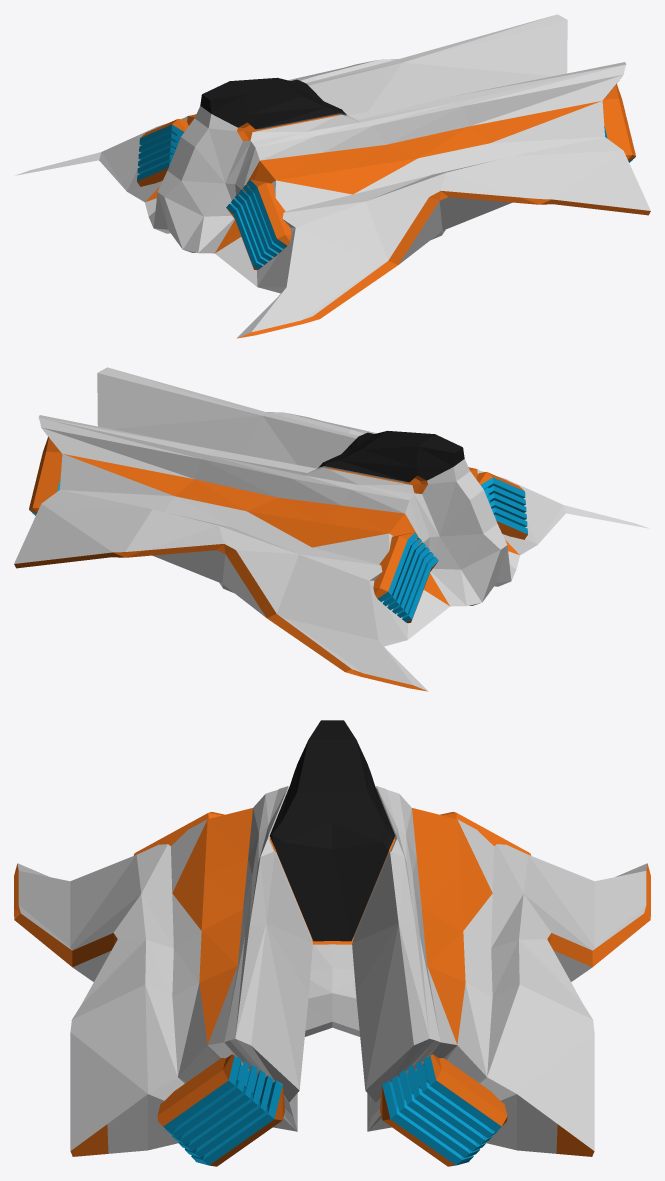
File: Drone_3.fbx
3 views of the same model, one above another, from view 1: azimuth 30°, elevation 25°; view 2: azimuth 150°, elevation 25°; view 3: azimuth 270°, elevation 25° (orthographic). The views are drawn at different scales.
Visible parts, largest first — view 1: Drone; view 2: Drone; view 3: Drone.
Boxes of the visible parts, <box> form: Drone: <box>15,14,650,338</box>; Drone: <box>14,367,649,691</box>; Drone: <box>14,720,650,1166</box>.
Size of the model in its own units: 6.18 by 1.97 by 5.1.
